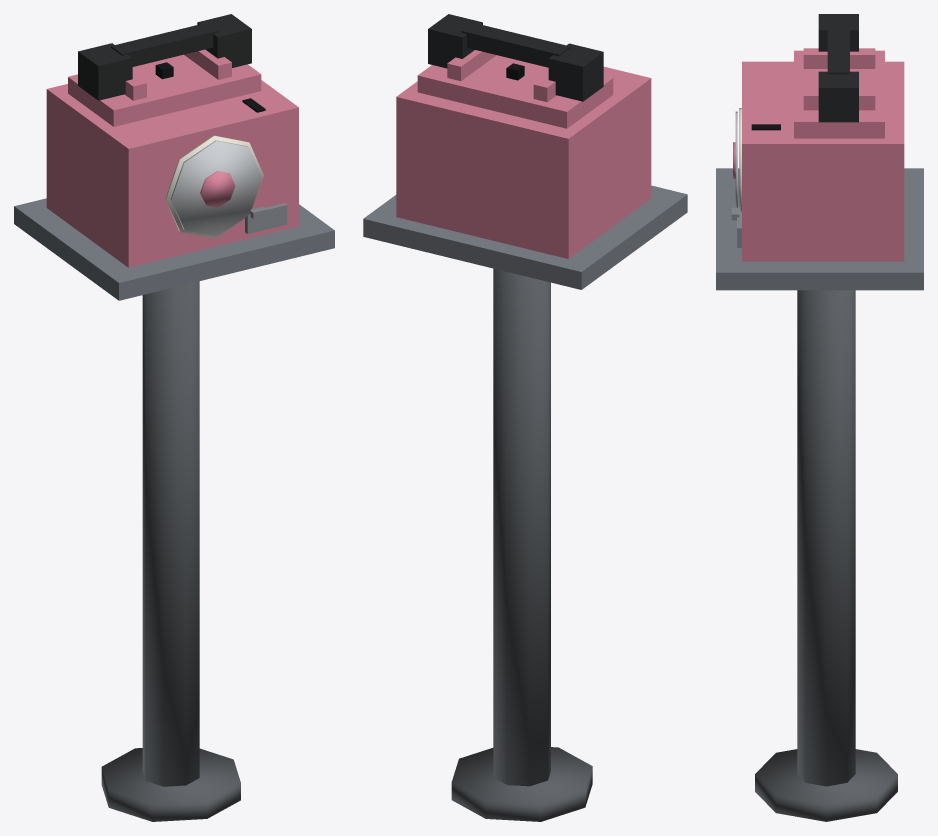
Rendered from payphone_pink_low.glb.
3 renders of one model, left to right at view 1: azimuth 30°, elevation 25°; view 2: azimuth 150°, elevation 25°; view 3: azimuth 270°, elevation 25°, orthographic. The views are drawn at different scales.
Parts seen in each view (by area): view 1: payphone_low; view 2: payphone_low; view 3: payphone_low.
Part boxes in pixels (x1,y1,x2,y2): payphone_low: (14, 14, 334, 821); payphone_low: (363, 14, 687, 821); payphone_low: (716, 14, 923, 821).
Bounding box in the file's own units: 0.38 × 1.26 × 0.32.
